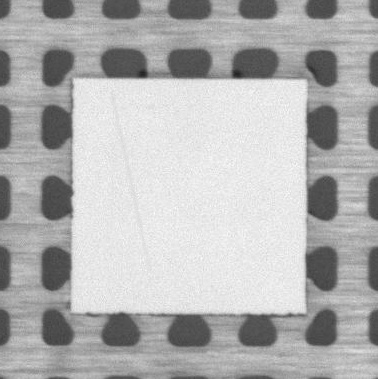DIE_CRACK: (112, 94, 153, 268)
